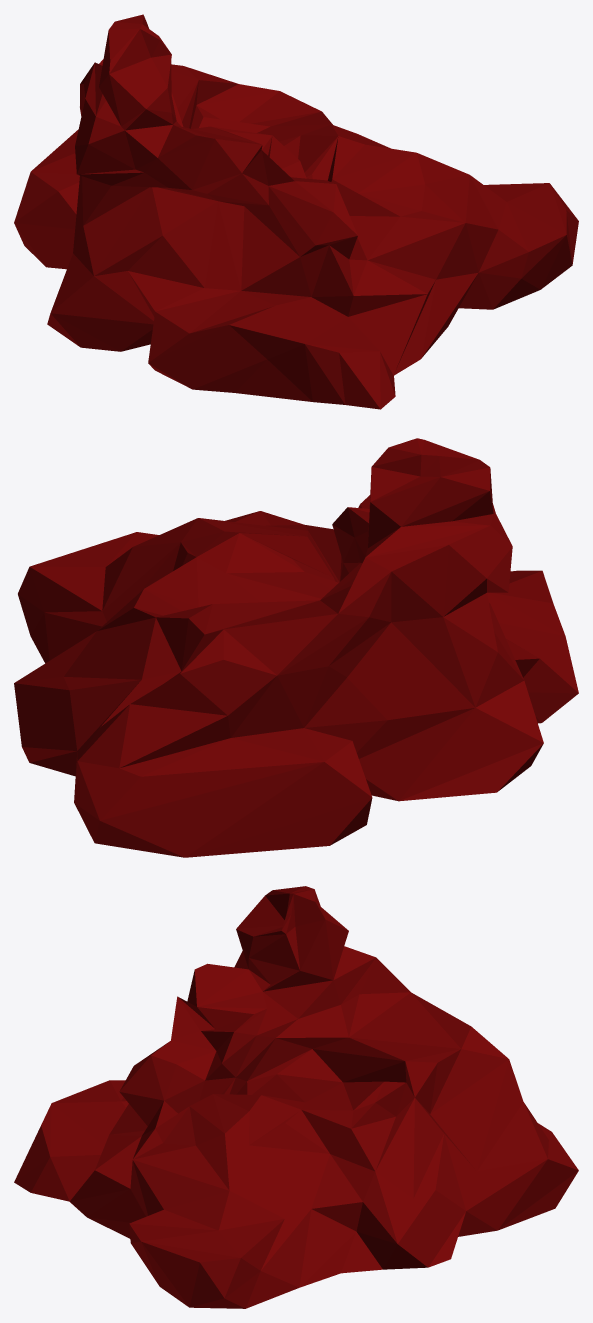
File: rocks_low.FBX
The picture shows the model from 3 angles, top to bottom: view 1: azimuth 30°, elevation 25°; view 2: azimuth 150°, elevation 25°; view 3: azimuth 270°, elevation 25°; orthographic projection. The views are drawn at different scales.
Visible parts, largest first — view 1: rocks_low; view 2: rocks_low; view 3: rocks_low.
Part boxes in pixels (x1,y1,x2,y2): rocks_low: (14, 14, 578, 409); rocks_low: (14, 438, 578, 857); rocks_low: (14, 886, 578, 1308).
Bounding box in the file's own units: 119 × 65.71 × 132.
